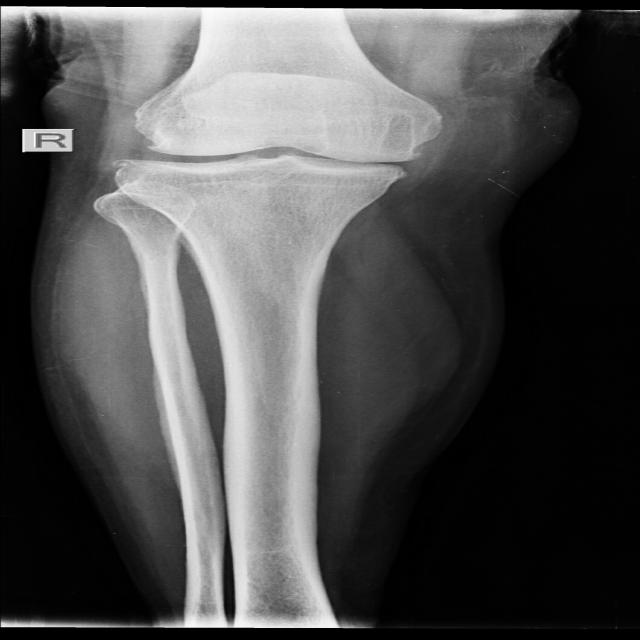normal: (106, 88, 440, 199)
